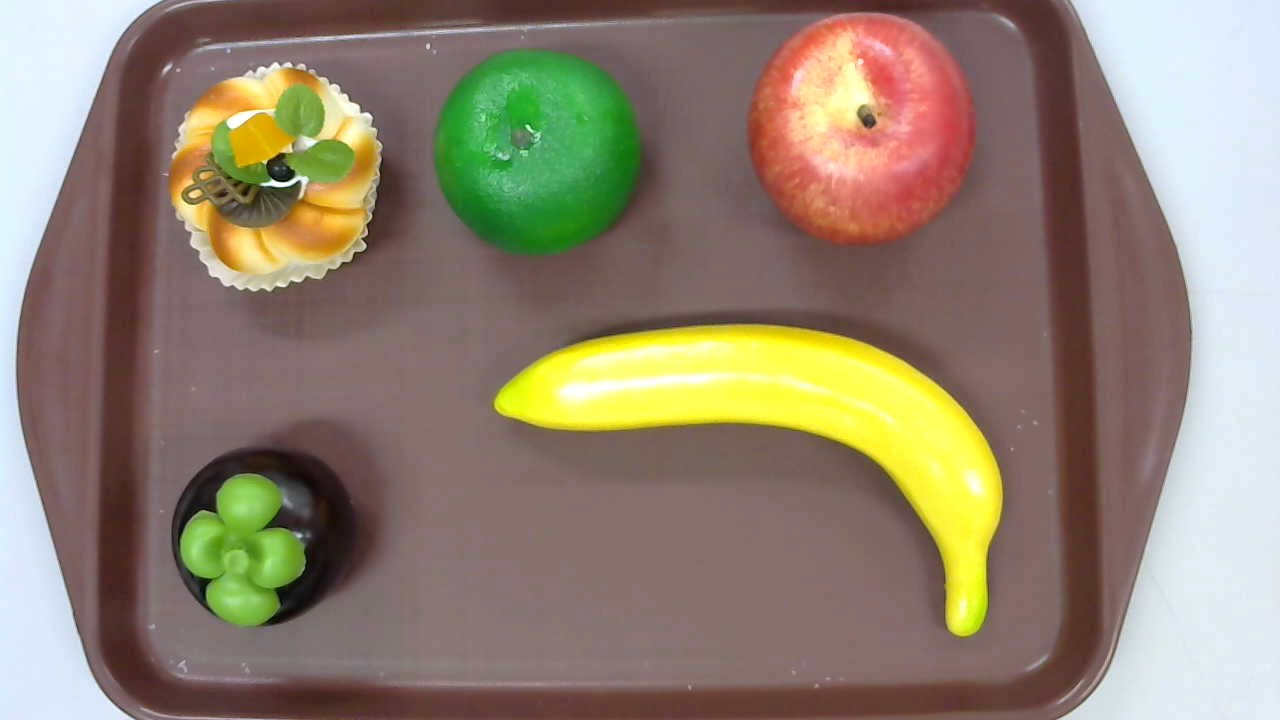banana: (494, 324, 1003, 636)
fruit tart: (167, 61, 385, 295)
green orange: (431, 48, 643, 257)
mangosteen: (171, 447, 355, 628)
red apple: (747, 11, 976, 249)
